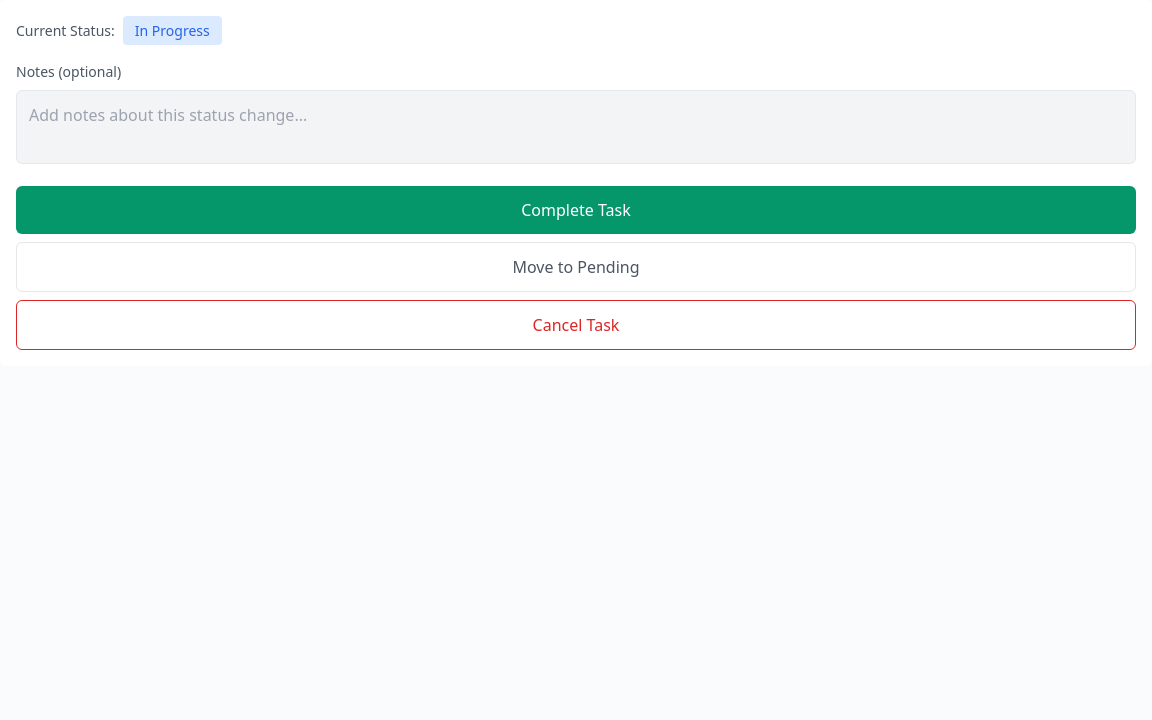
Test case: TaskStatusUpdater - Completion Workflow › shows confirmation modal when completing task
Click the button with test id "status-button-completed". click: click(576, 210)
box: [16,186,1136,234]
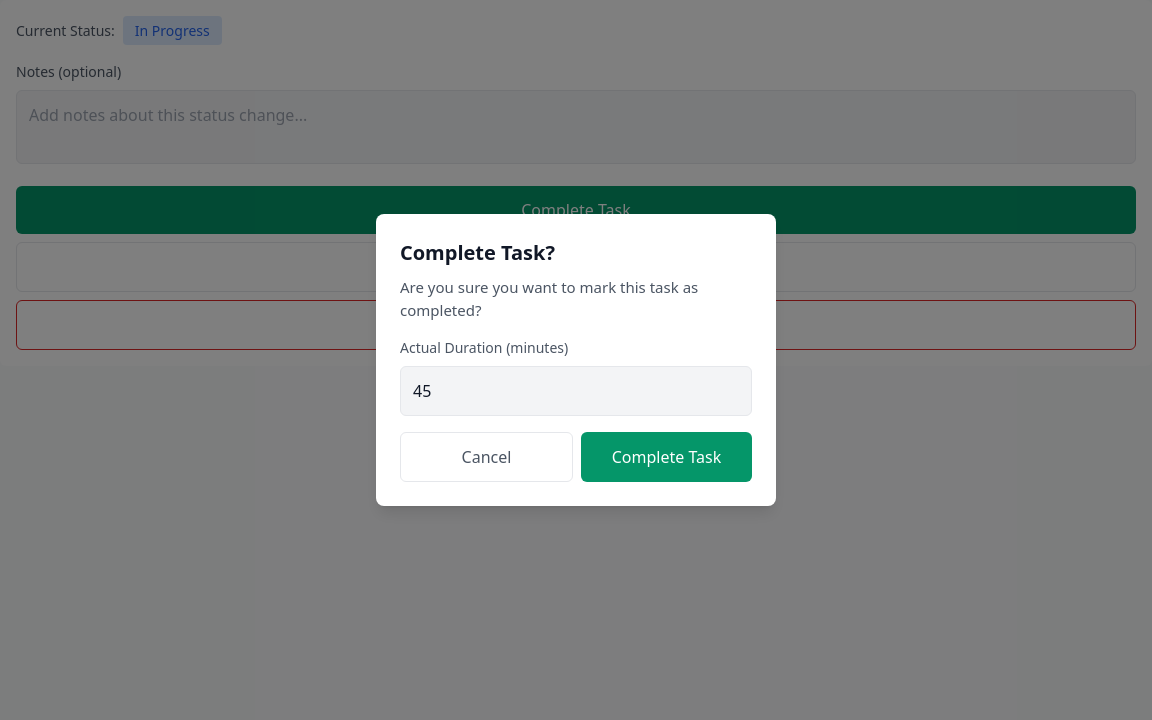
Now the dialog is shown
Now the heading "Complete Task?" is shown, box [400,239,555,266]
